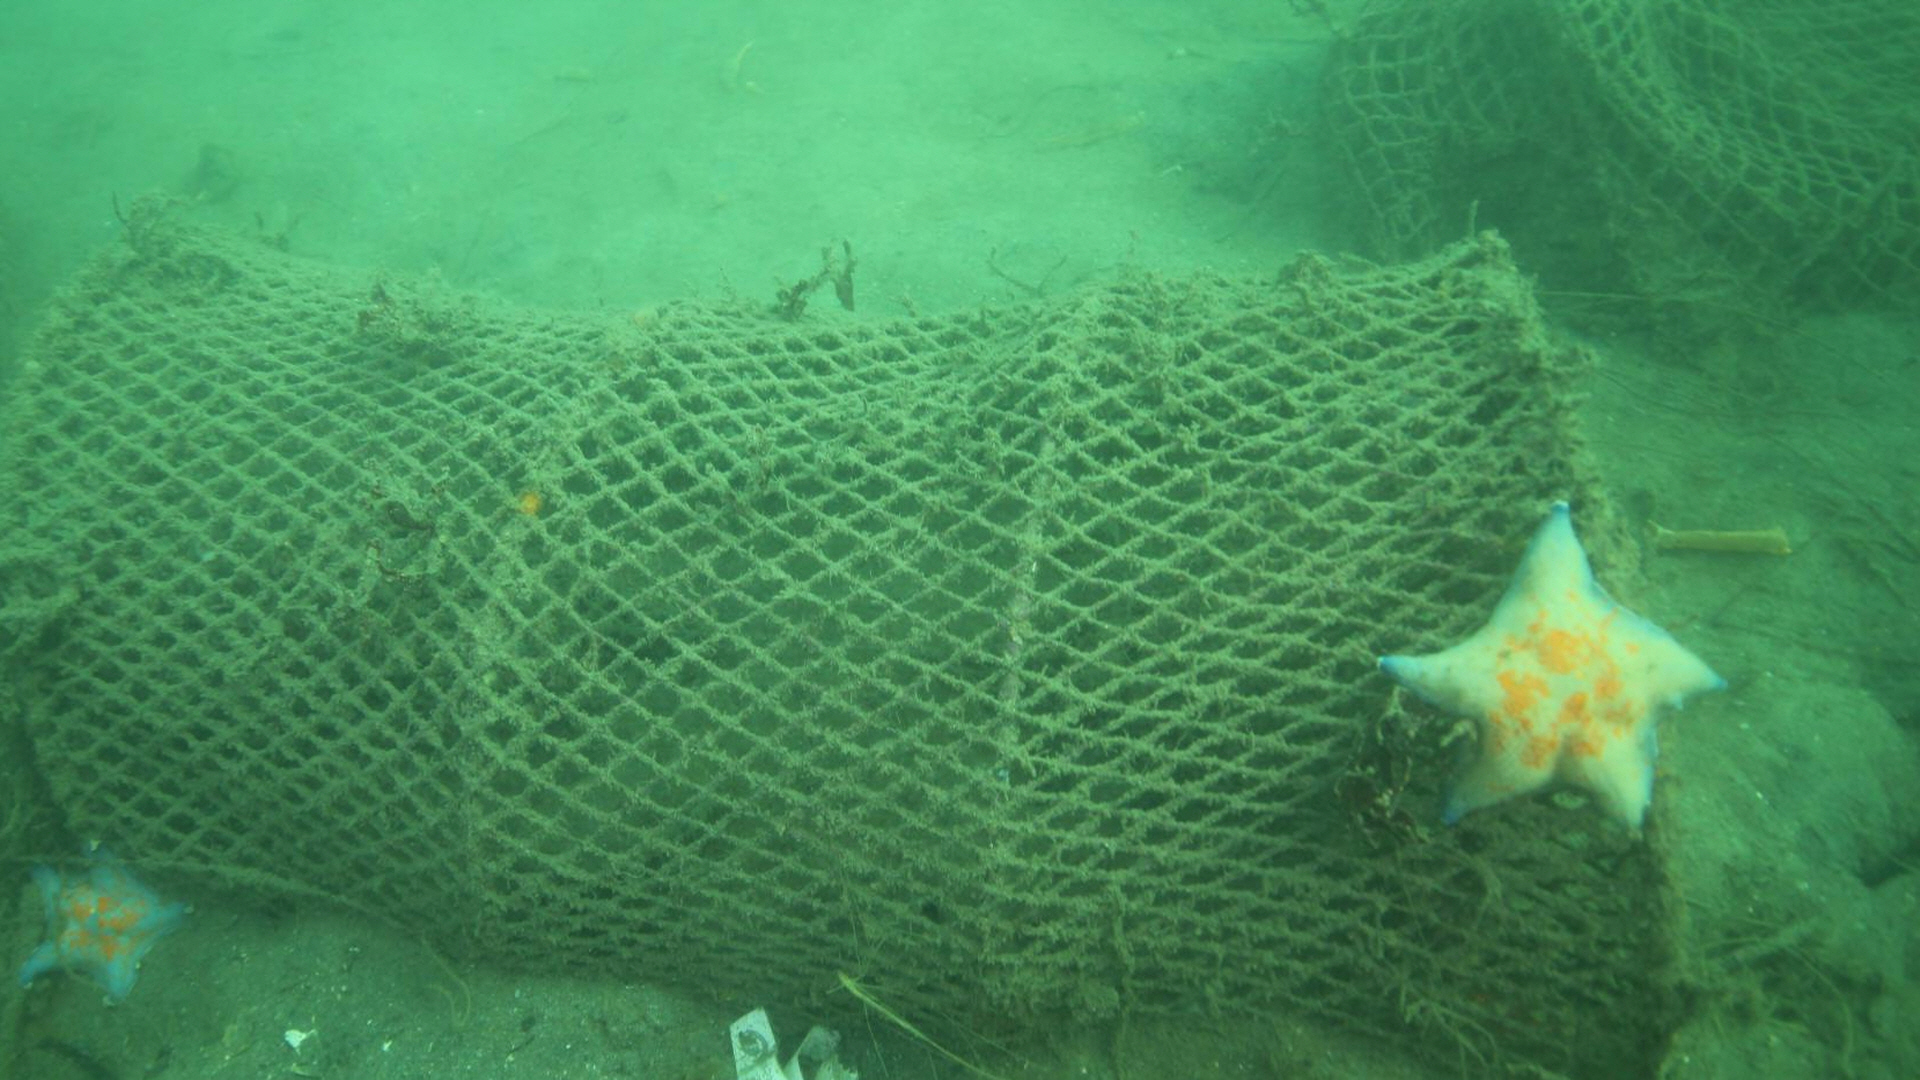fish net: (1317, 0, 1920, 331)
spring fish trap: (0, 193, 1691, 1080)
